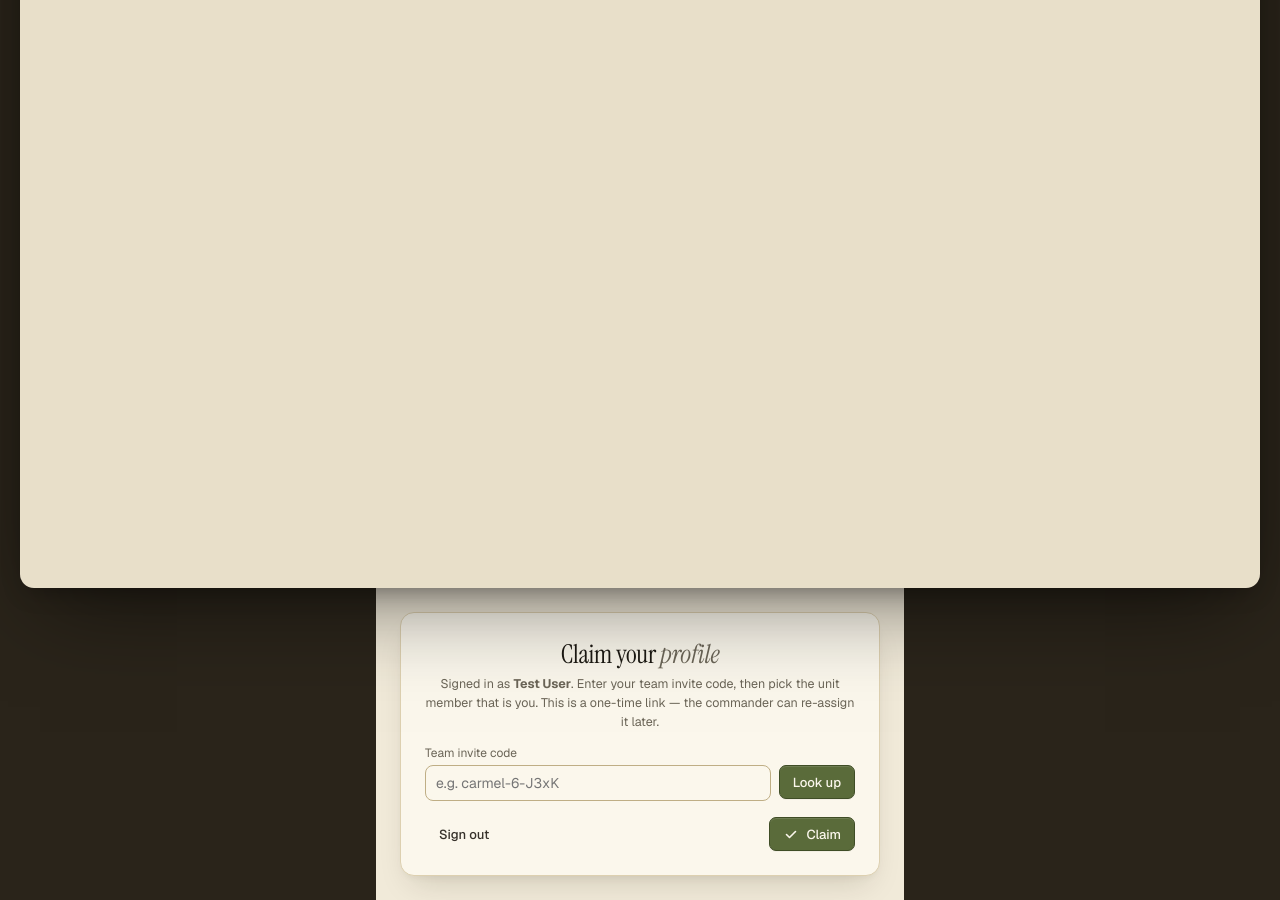
Test: ClaimProfileScreen › shows "expired" messaging when inspect_invite returns status=expired
(page scrolled)
In the field with placeholder "e.g. carmel-6-J3xK": (598, 783) [425, 765, 771, 801], type "stale-code"
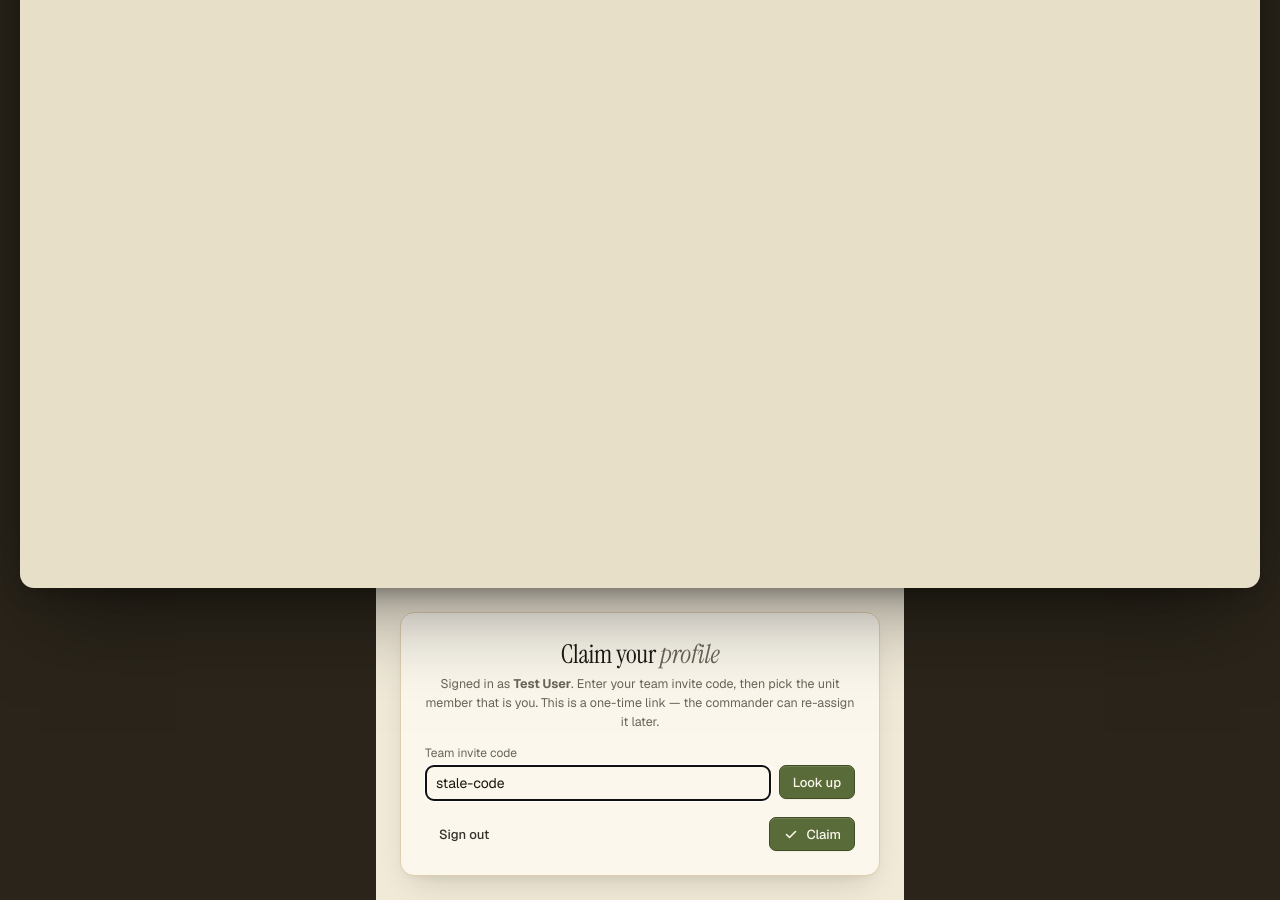
Click the button "Look up": (817, 782) [779, 765, 855, 799]
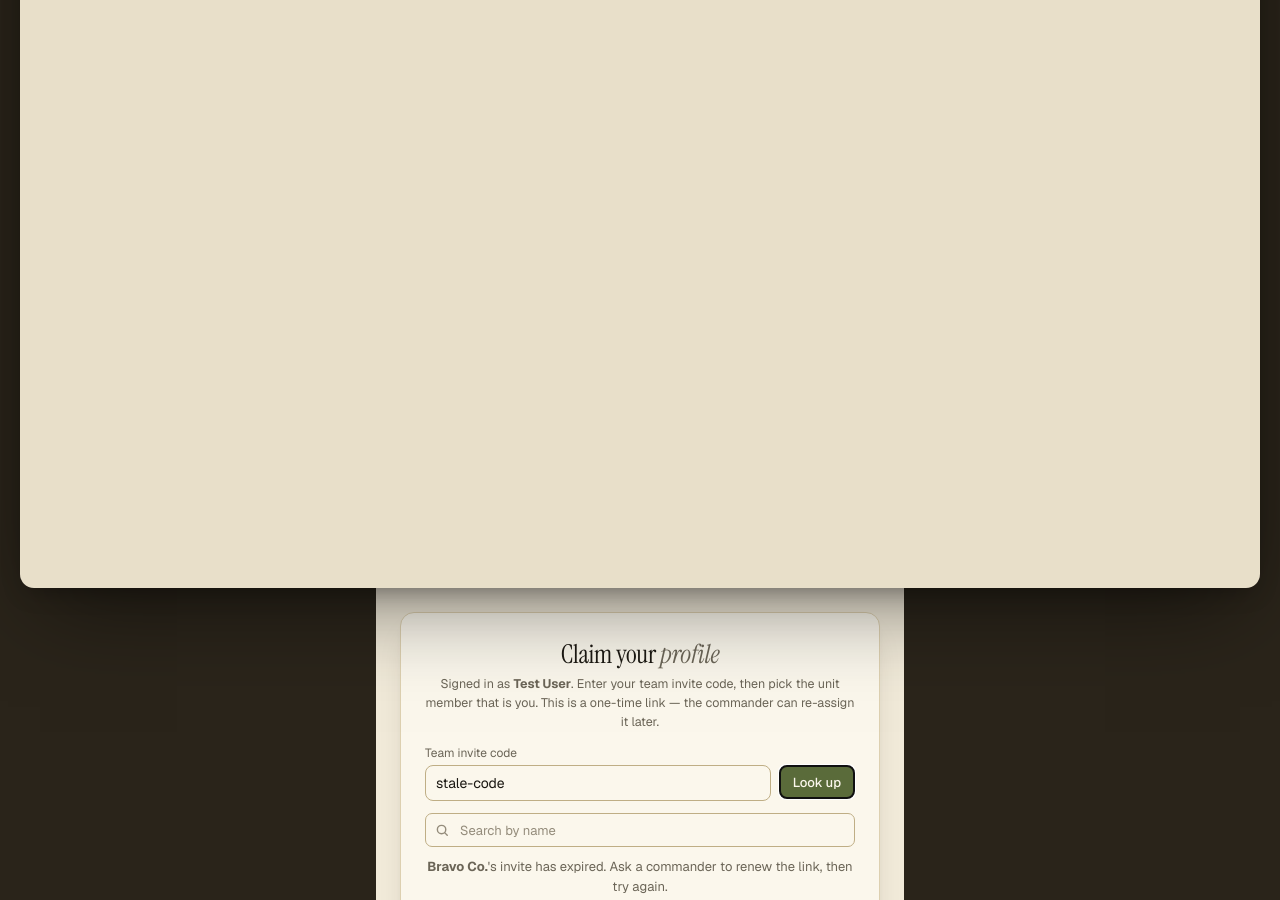
Expected: the text "invite has expired" is shown, [488, 858, 853, 895]
Expected: the text "Bravo Co." is shown, [427, 858, 488, 875]
